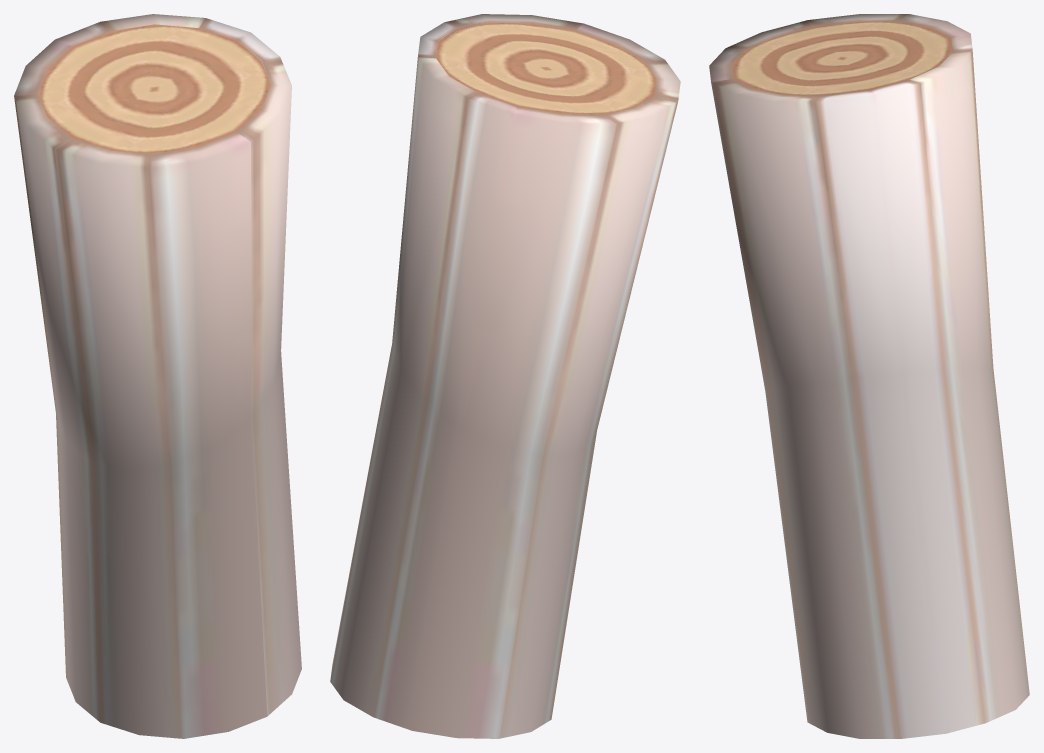
The model's file is PierBeam1.fbx.
The picture shows the model from 3 angles, left to right: view 1: azimuth 30°, elevation 25°; view 2: azimuth 150°, elevation 25°; view 3: azimuth 270°, elevation 25°; orthographic projection. The views are drawn at different scales.
Visible parts, largest first — view 1: PierBeam; view 2: PierBeam; view 3: PierBeam.
Boxes of the visible parts, box(x1,y1,x2,y2) form: PierBeam: box(14, 14, 301, 738); PierBeam: box(330, 14, 680, 738); PierBeam: box(709, 14, 1029, 738).
Bounding box in the file's own units: 0.4927 × 1.09 × 0.4886.
